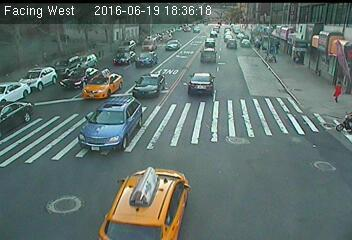neg: (335, 108, 351, 138)
pos: (327, 76, 350, 106)
